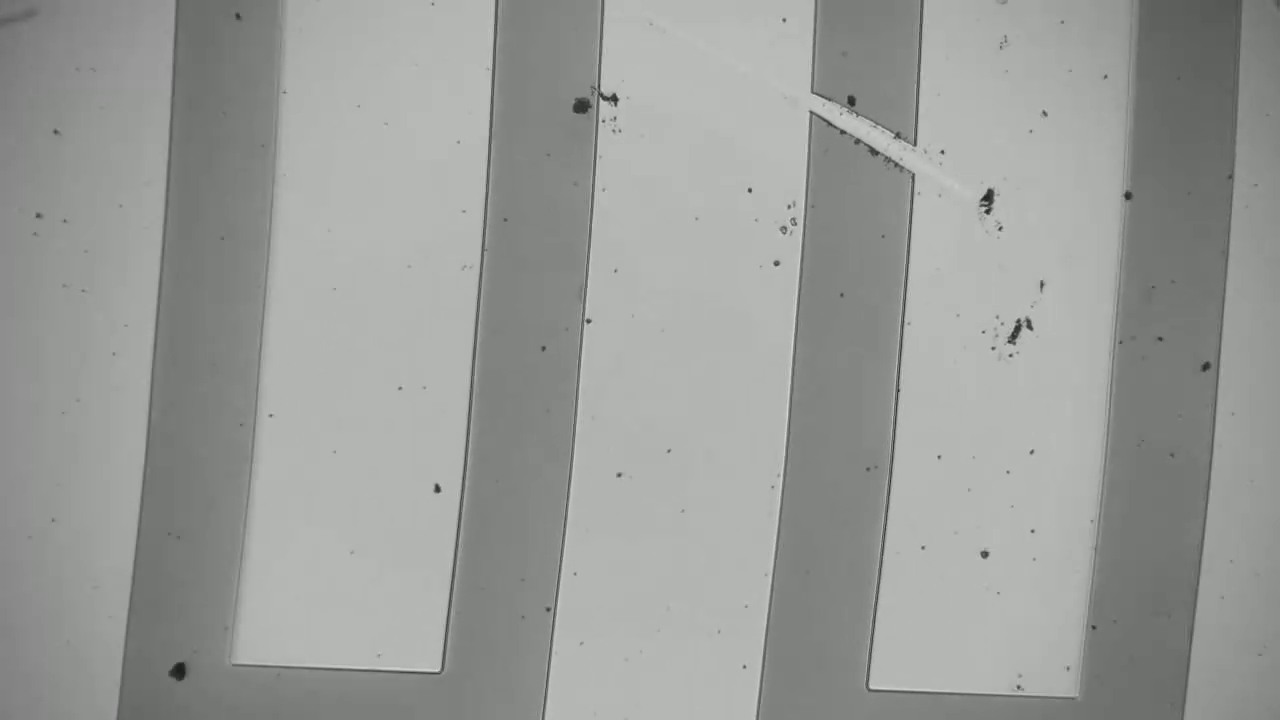Short_circuit: (785, 69, 957, 203)
